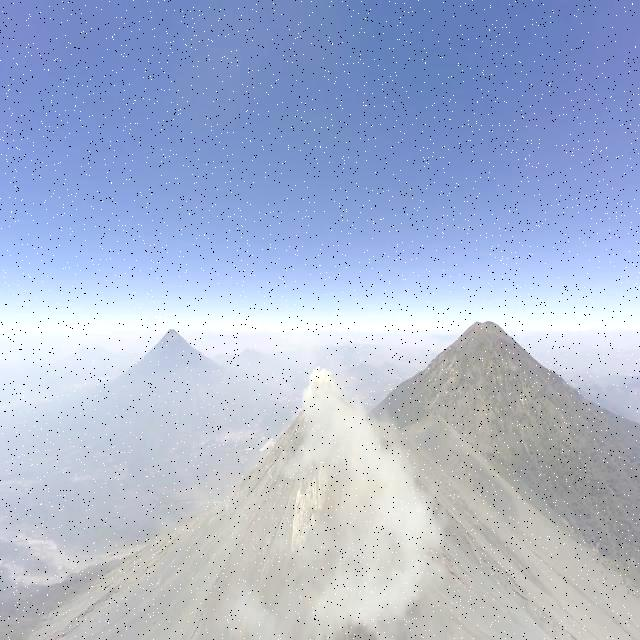Plume: (278, 363, 447, 640), (300, 363, 340, 446)
